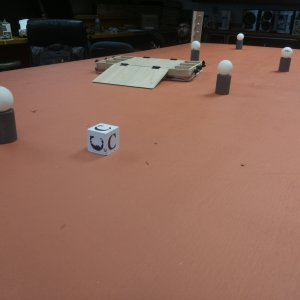blockC: (89, 123, 120, 156)
corner: (191, 12, 203, 41)
obstacle: (1, 86, 18, 143), (215, 61, 234, 94), (279, 46, 291, 72), (190, 40, 201, 60), (236, 34, 243, 50)
side: (176, 60, 209, 83)
slope: (97, 63, 166, 88)
